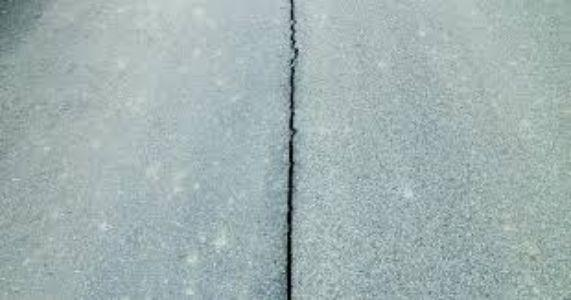crack: (280, 0, 302, 300)
